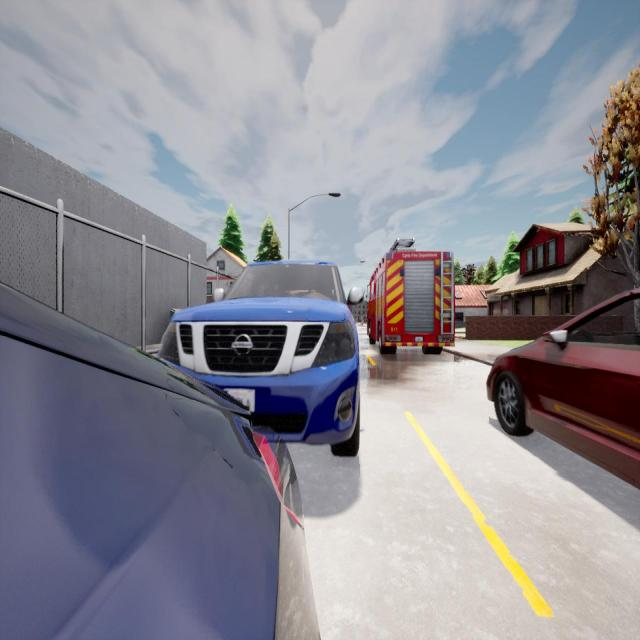Vehicle: (0, 284, 318, 640), (160, 262, 359, 456), (488, 290, 640, 488), (368, 239, 455, 354)
